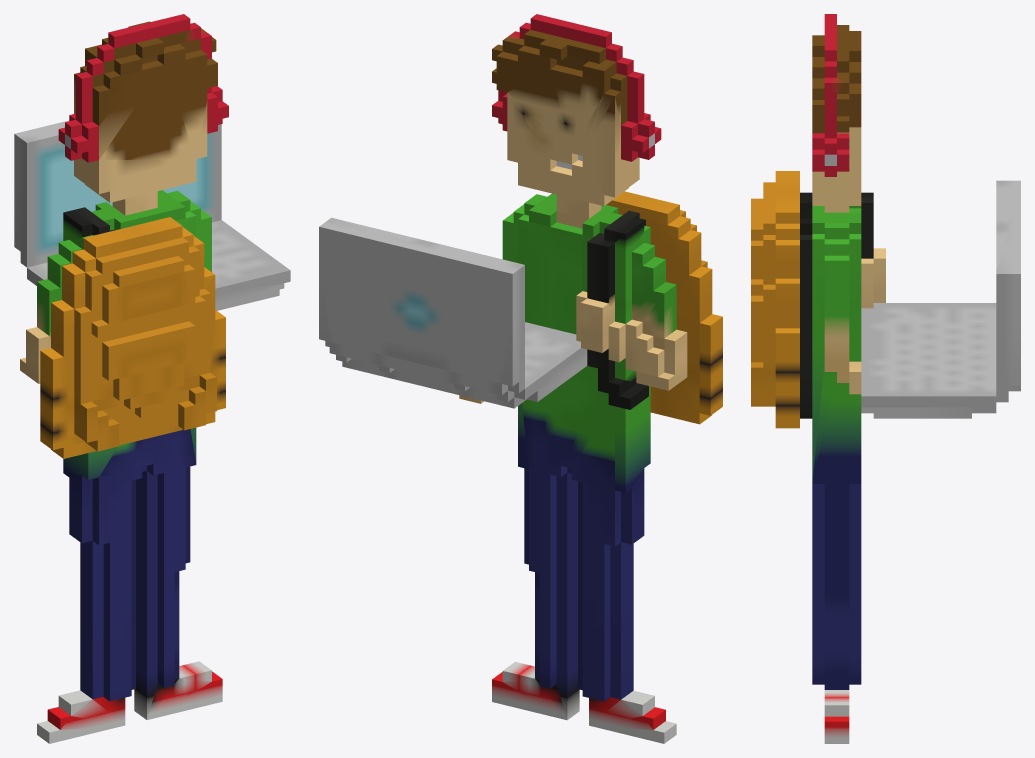
Rendered from Freelancer.dae.
3 renders of one model, left to right at view 1: azimuth 30°, elevation 25°; view 2: azimuth 150°, elevation 25°; view 3: azimuth 270°, elevation 25°, orthographic.
Parts seen in each view (by area): view 1: freelancer.merged; view 2: freelancer.merged; view 3: freelancer.merged.
Part boxes in pixels (x1,y1,x2,y2): freelancer.merged: (14,14,290,743); freelancer.merged: (319,14,722,743); freelancer.merged: (751,14,1020,743).
Bounding box in the file's own units: 2.6 × 2.2 × 6.1.
1 material, 1 textured.
